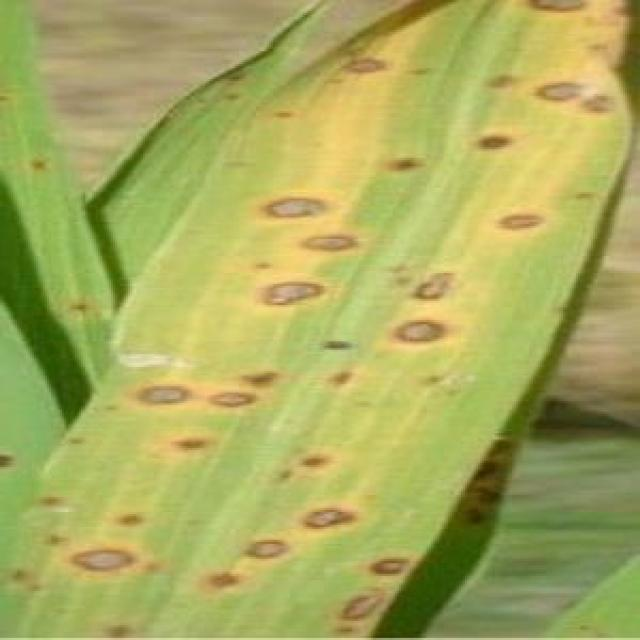Rice: (525, 70, 628, 123), (236, 258, 327, 316), (124, 372, 196, 417), (260, 185, 344, 223), (61, 539, 140, 579), (384, 313, 453, 355), (331, 581, 381, 638), (270, 448, 342, 485), (407, 264, 460, 314), (322, 51, 392, 88), (2, 558, 54, 606), (198, 382, 249, 419), (236, 534, 290, 568), (231, 358, 278, 397), (412, 370, 462, 406), (303, 504, 361, 535), (491, 205, 545, 238), (198, 564, 246, 601), (294, 233, 368, 254), (474, 126, 519, 160), (160, 432, 206, 465), (366, 546, 411, 579), (62, 430, 105, 461), (381, 148, 423, 176), (486, 68, 519, 100), (270, 106, 302, 138), (31, 484, 65, 514), (331, 361, 359, 392), (320, 326, 353, 352), (98, 619, 134, 640), (120, 503, 143, 532), (0, 443, 17, 482)
